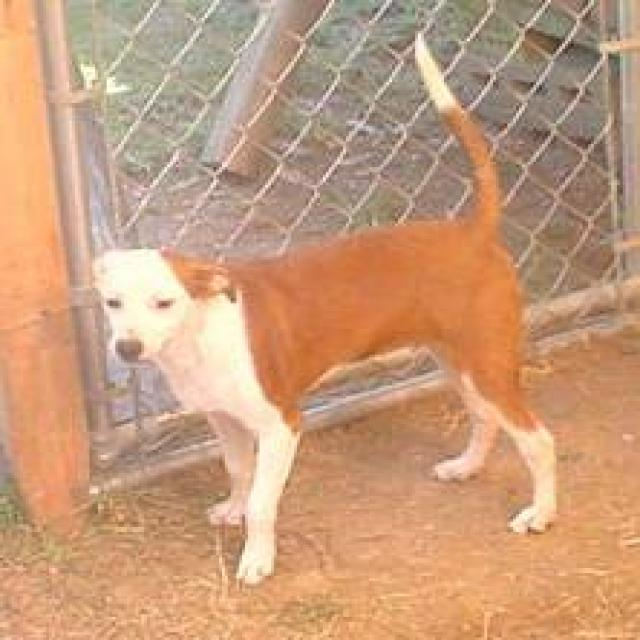dog: (90, 28, 560, 586)
